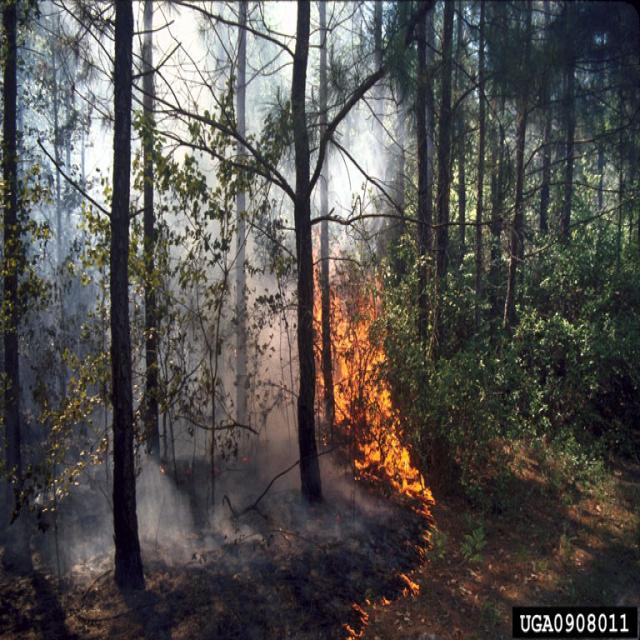Fire: (314, 255, 438, 640)
